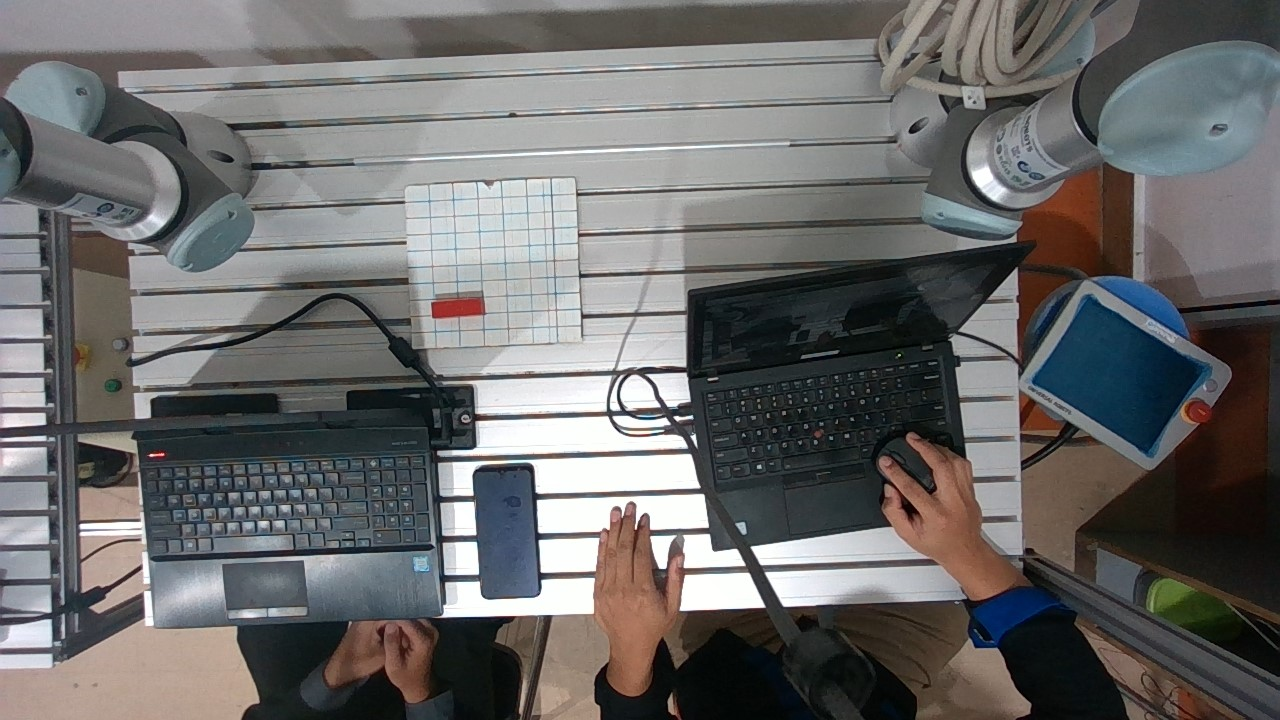box: (423, 290, 506, 326)
